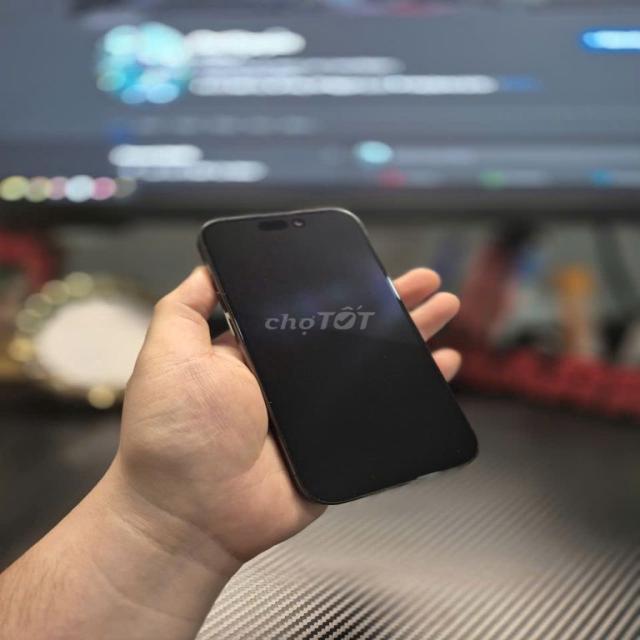gen_15: (180, 171, 495, 505)
